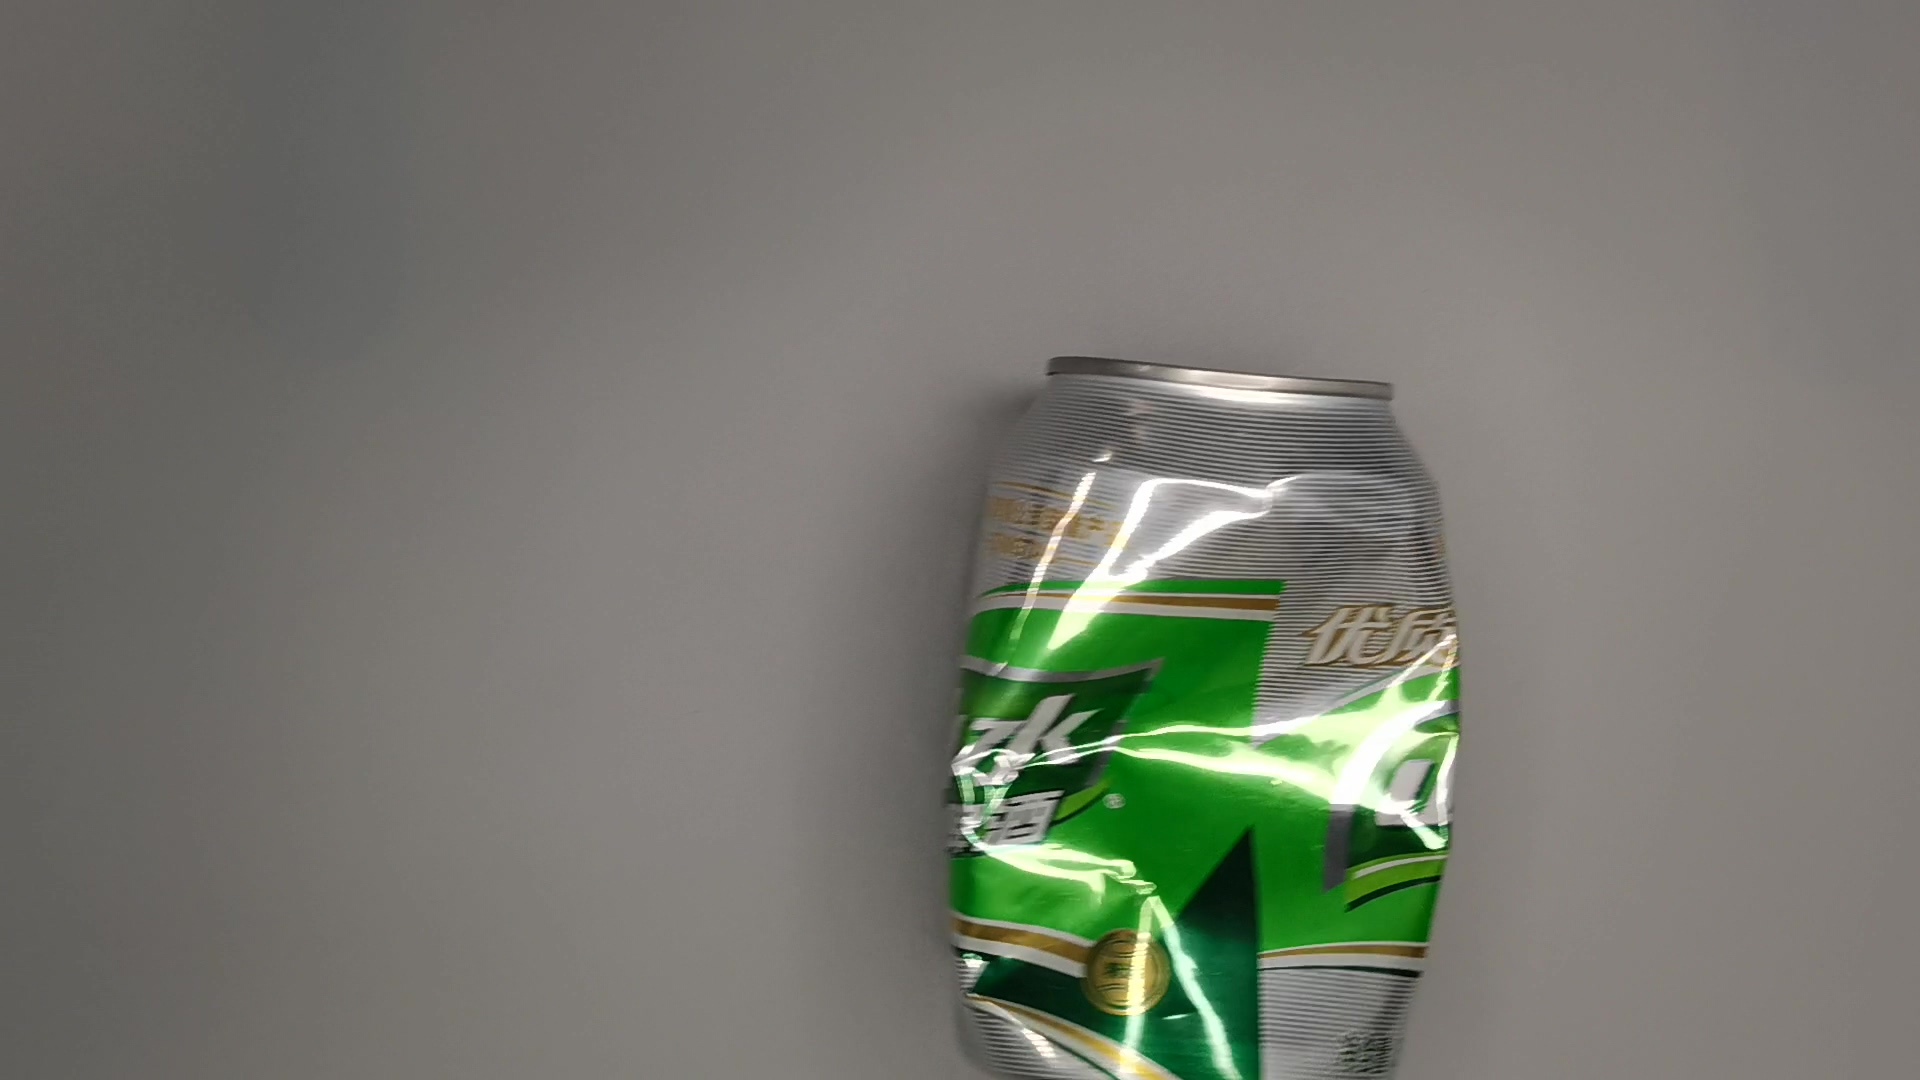can: (934, 349, 1490, 1080)
